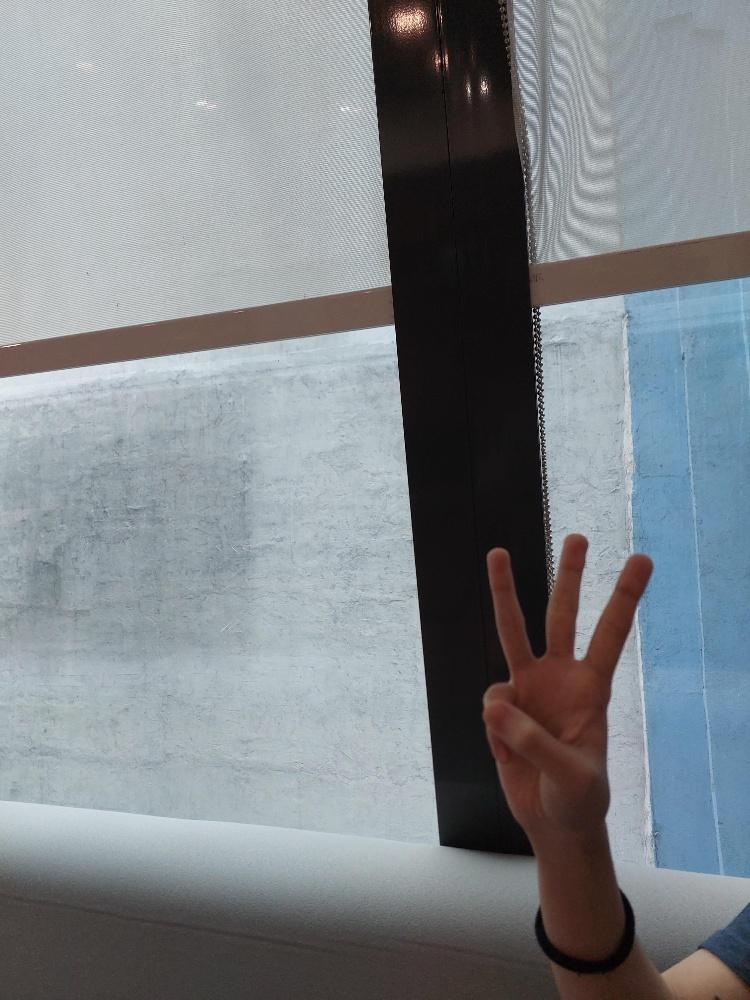w: (480, 532, 653, 813)
